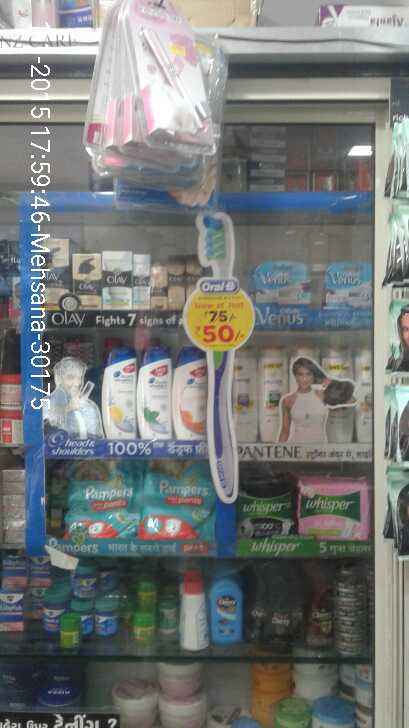venus: (320, 260, 375, 304), (256, 262, 311, 304)
